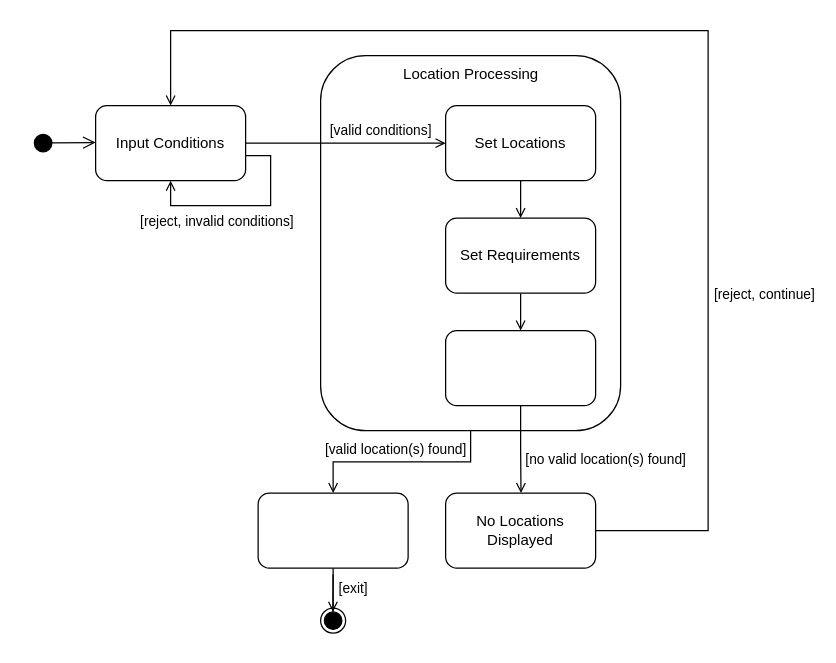
Some shapes in this 836 by 663 pixel diagram are drawn without their labels. The shapes that lost their labels are listed below. From the top down, each one's box as (x1, y1, x2, y2) in pixels, then its label:
(444, 329, 596, 406): Process
(257, 492, 408, 568): Display Locations
